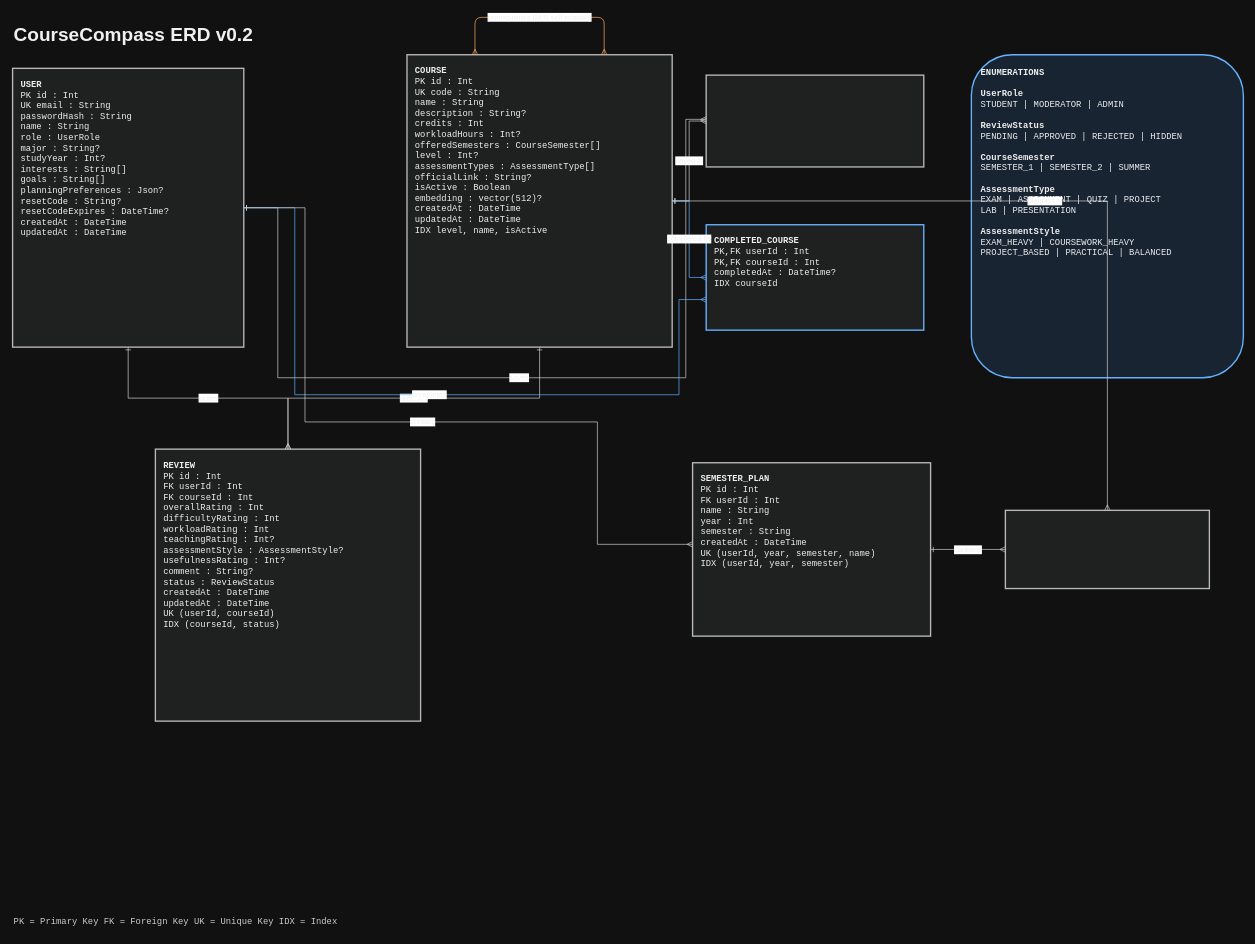
Image size: 1255x944. Some labels were removed from this diagram. The shapes that lost their labels are listed below. From the top down, each one's box as (x1, y1, x2, y2) in pixels, then its label:
(705, 74, 924, 167): SAVED_COURSE PK,FK userId : Int PK,FK courseId : Int createdAt : DateTime
(1004, 509, 1210, 589): PLAN_COURSE PK,FK planId : Int PK,FK courseId : Int
